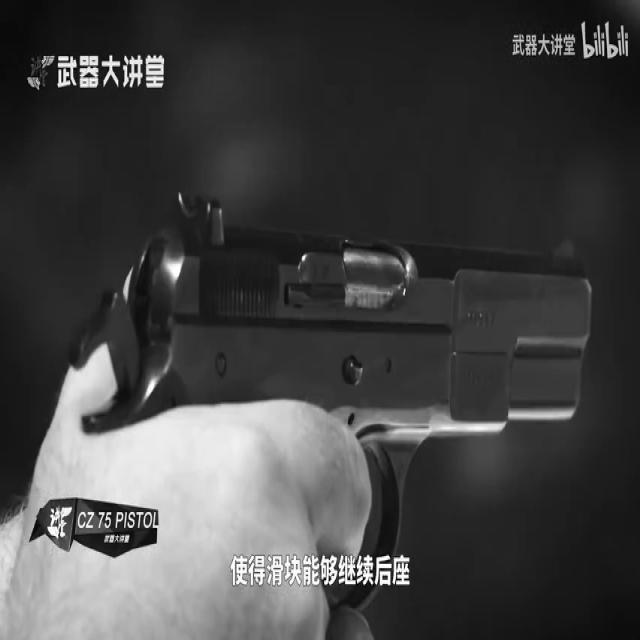Hand-Gun: (94, 194, 601, 518)
